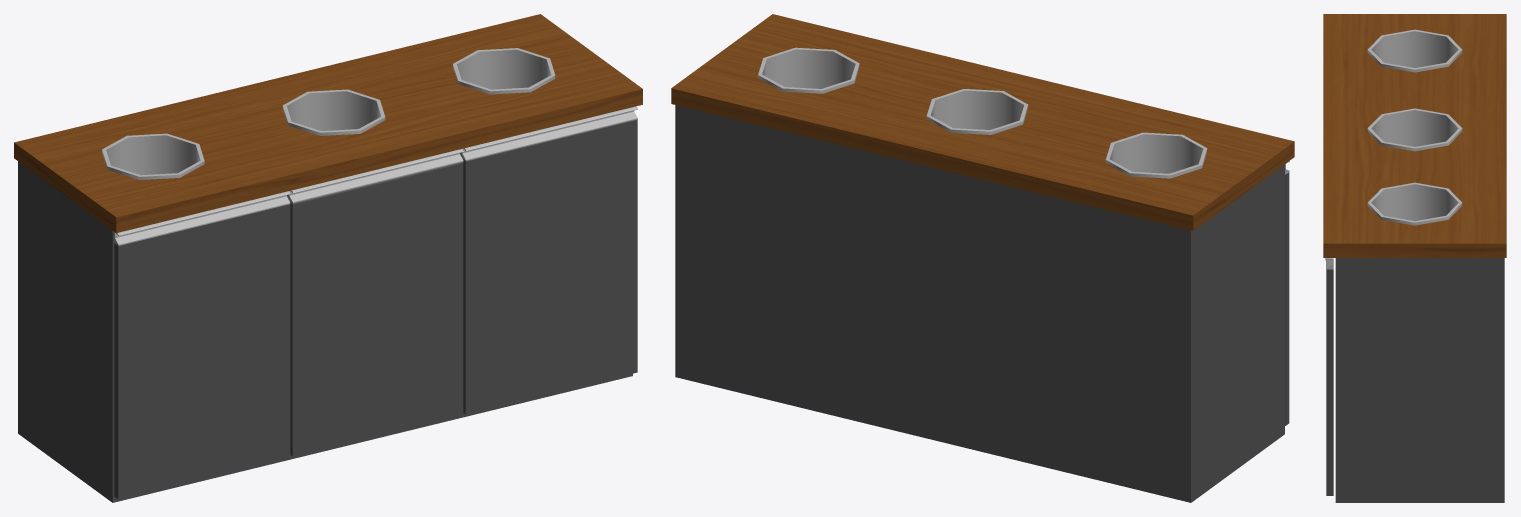
Rendered from LC_3132_GarbageCanD_LOD1.FBX.
3 renders of one model, left to right at view 1: azimuth 30°, elevation 25°; view 2: azimuth 150°, elevation 25°; view 3: azimuth 270°, elevation 25°, orthographic. The views are drawn at different scales.
Parts seen in each view (by area): view 1: LC_3132_GarbageCanD_LOD1; view 2: LC_3132_GarbageCanD_LOD1; view 3: LC_3132_GarbageCanD_LOD1.
Boxes of the visible parts, box(x1,y1,x2,y2) form: LC_3132_GarbageCanD_LOD1: box(14, 14, 642, 502); LC_3132_GarbageCanD_LOD1: box(671, 14, 1294, 502); LC_3132_GarbageCanD_LOD1: box(1323, 14, 1506, 502).
Size of the model in its own units: 175 by 93.31 by 58.8.
1 material, 1 textured.
